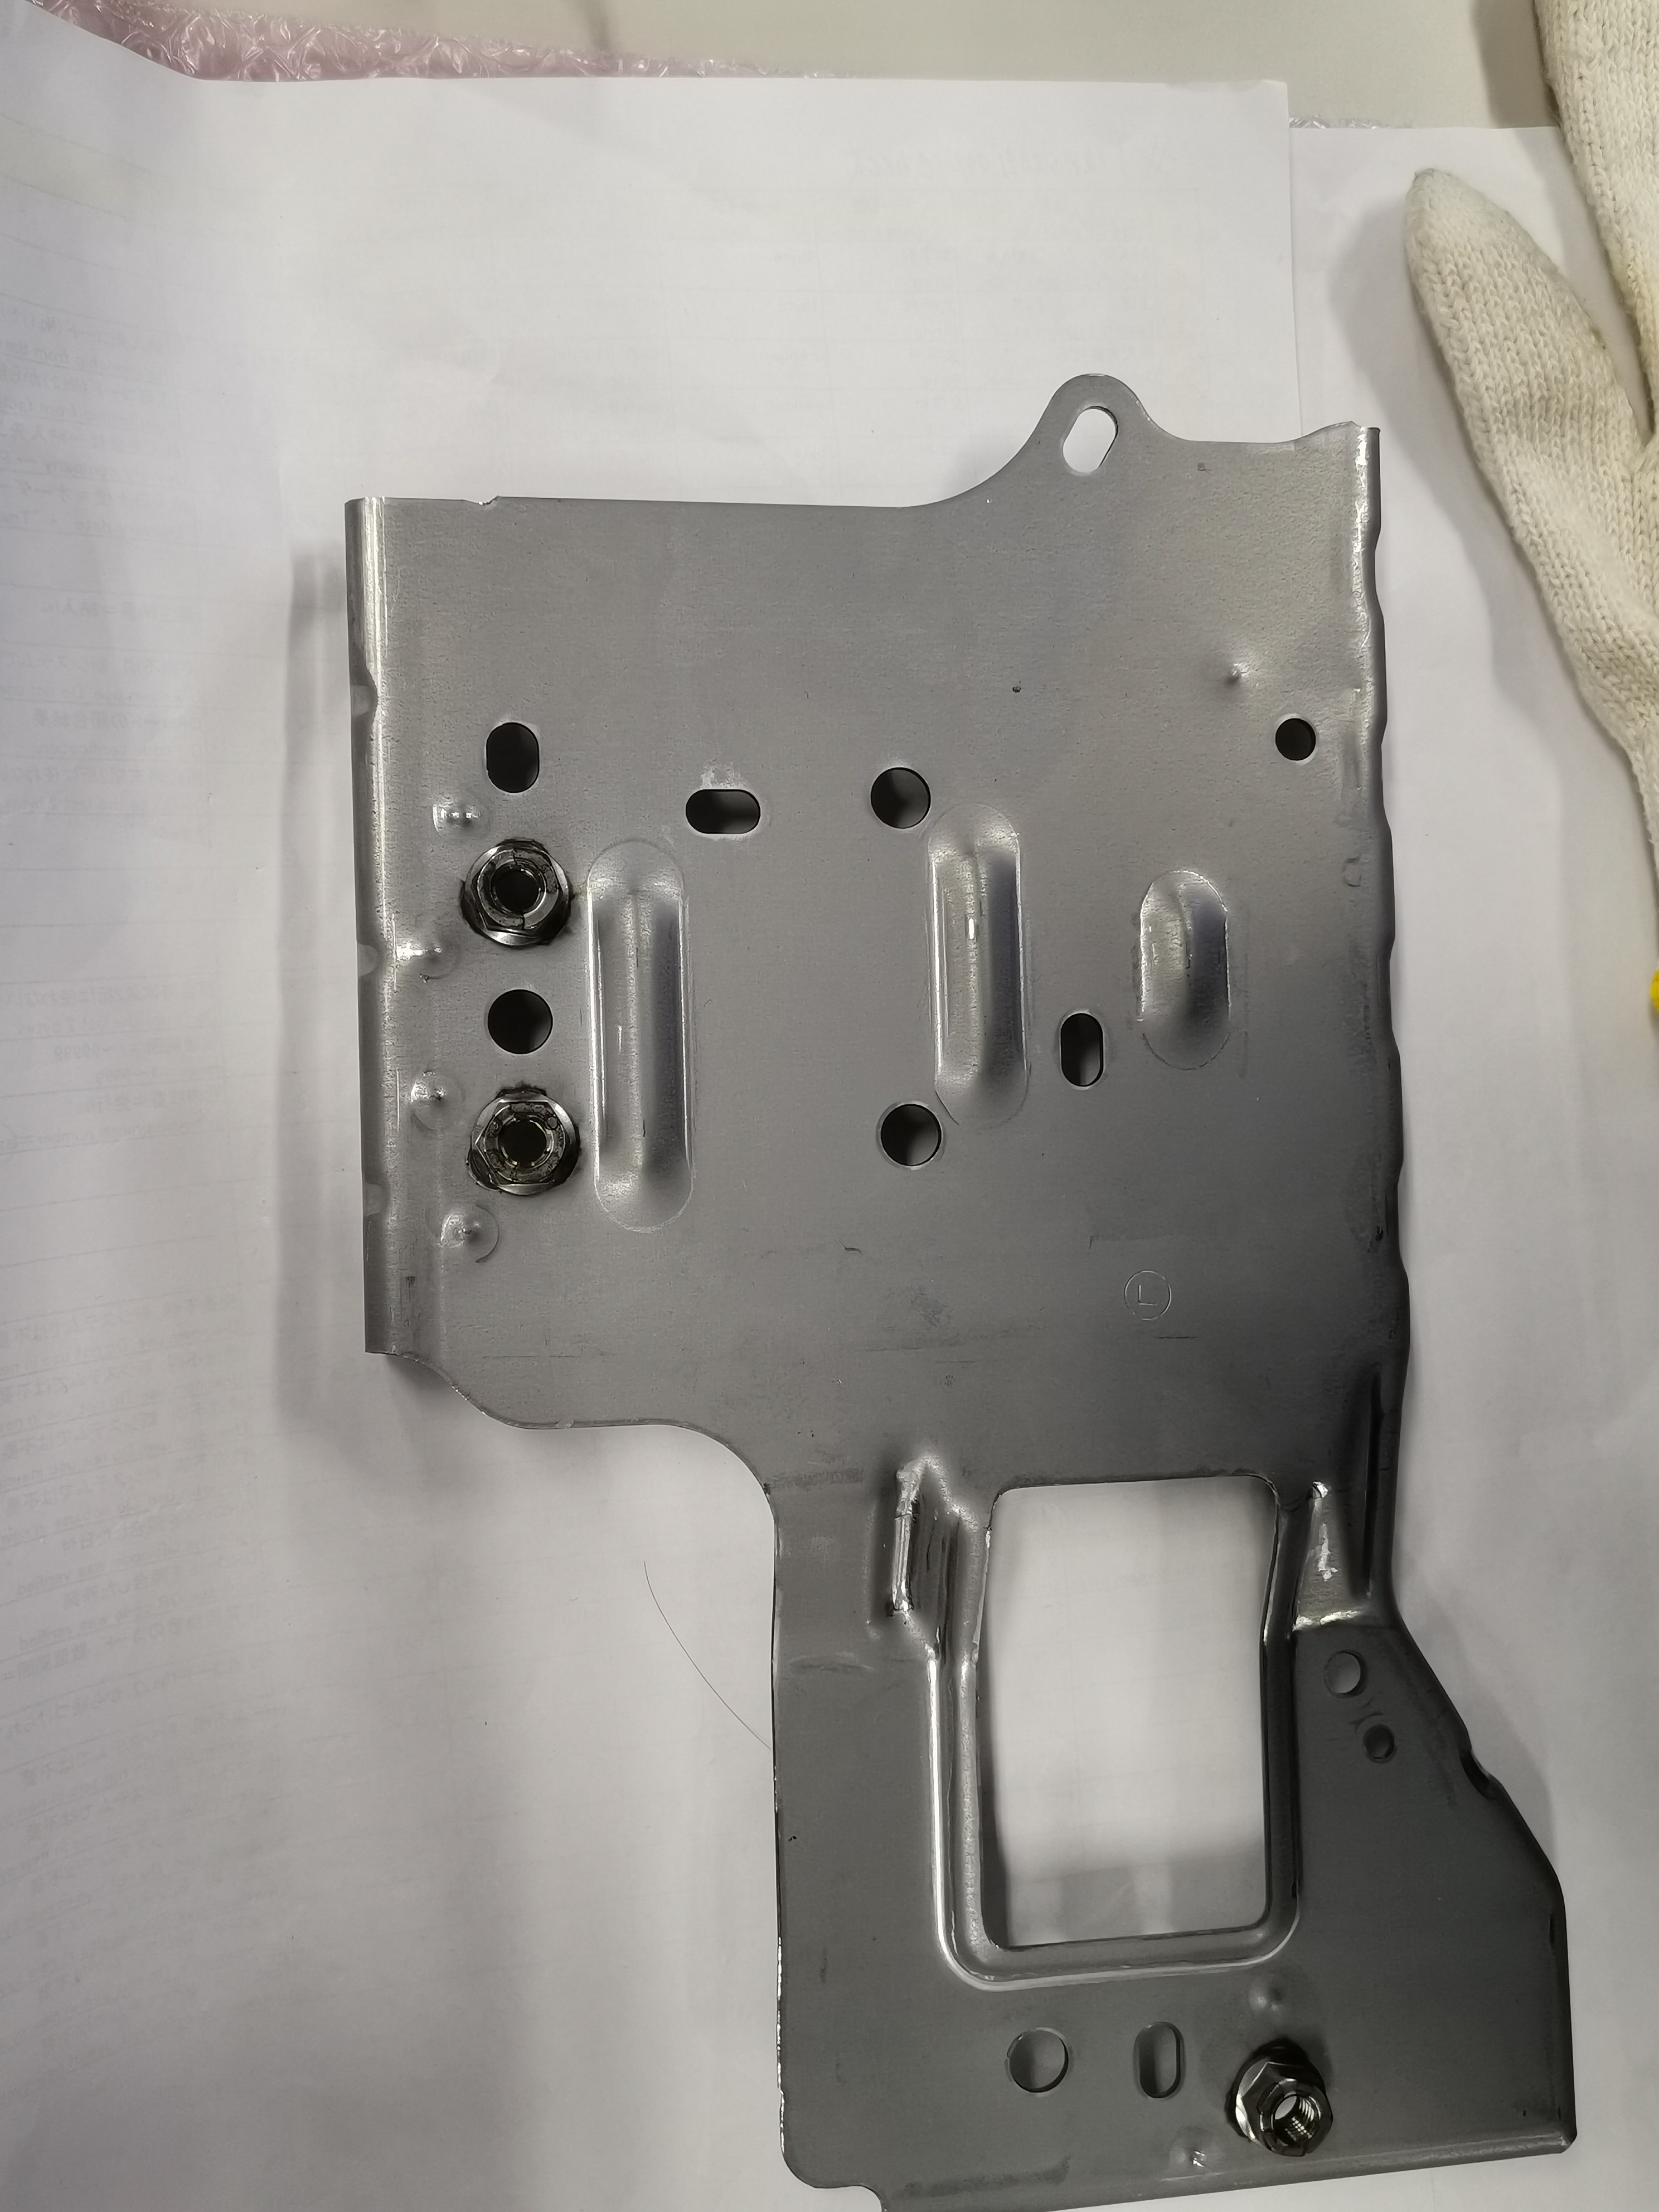dog: (457, 838, 577, 953), (1232, 2034, 1337, 2160), (471, 1085, 580, 1200)
